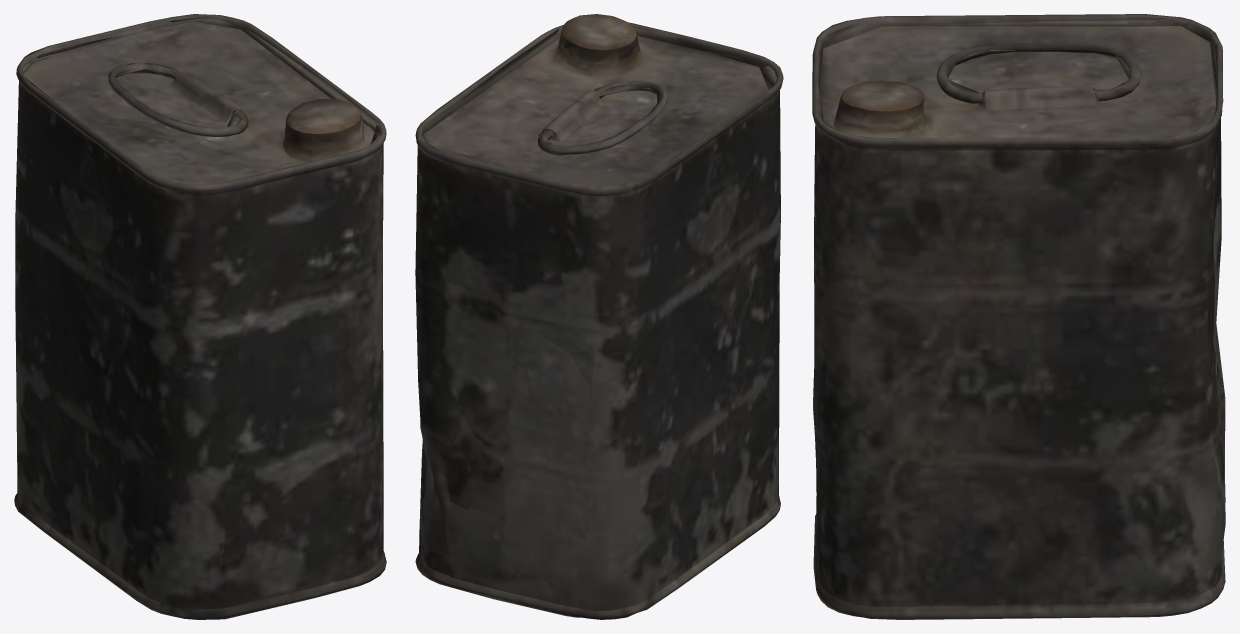
Rendered from oil_tin.glb.
The picture shows the model from 3 angles, left to right: view 1: azimuth 30°, elevation 25°; view 2: azimuth 150°, elevation 25°; view 3: azimuth 270°, elevation 25°; orthographic projection. The views are drawn at different scales.
Parts seen in each view (by area): view 1: oil_tin, oil_tin_lo; view 2: oil_tin, oil_tin_lo; view 3: oil_tin, oil_tin_lo.
Part boxes in pixels (x1,y1,x2,y2): oil_tin: (14, 14, 386, 619); oil_tin_lo: (17, 16, 382, 606); oil_tin: (415, 14, 783, 619); oil_tin_lo: (420, 28, 777, 606); oil_tin: (812, 14, 1225, 619); oil_tin_lo: (815, 18, 1225, 613).
Size of the model in its own units: 0.1147 by 0.2054 by 0.1536.
1 material, 1 textured.
